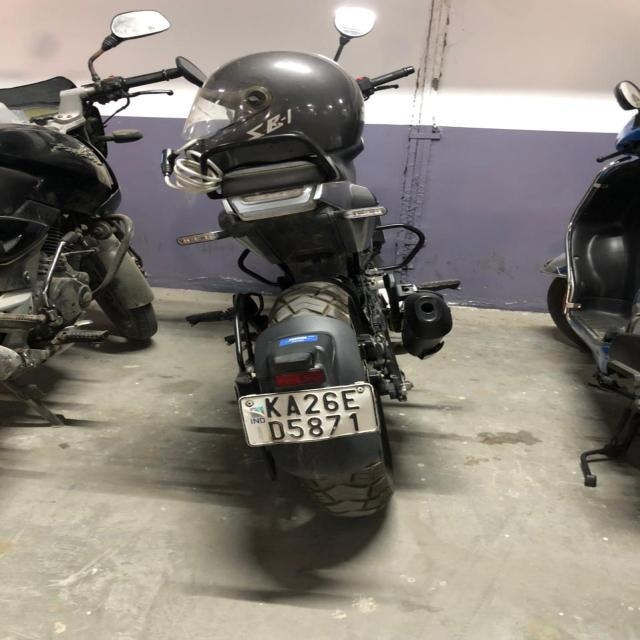license_plate: (237, 381, 379, 447)
